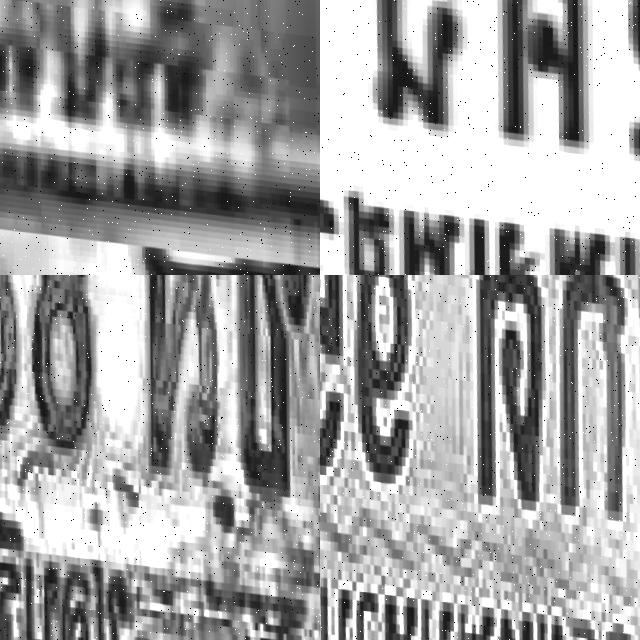license-plate: (0, 275, 320, 640), (320, 275, 640, 640), (320, 0, 640, 275), (0, 0, 320, 228)
